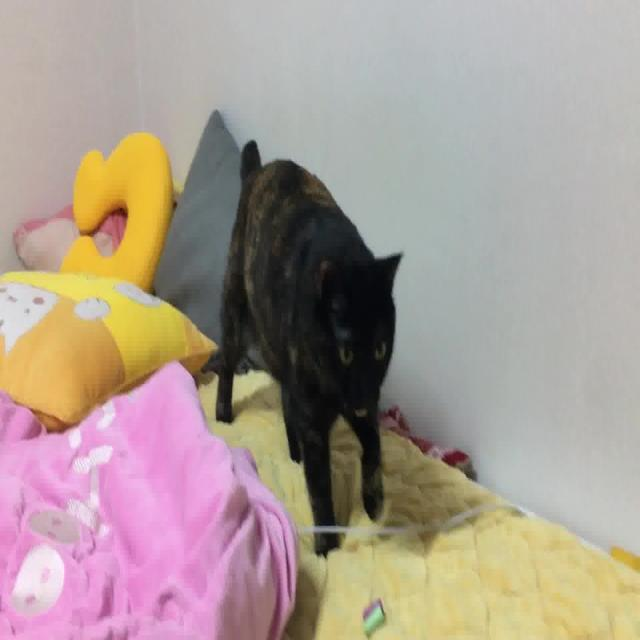cat: (204, 131, 406, 559)
